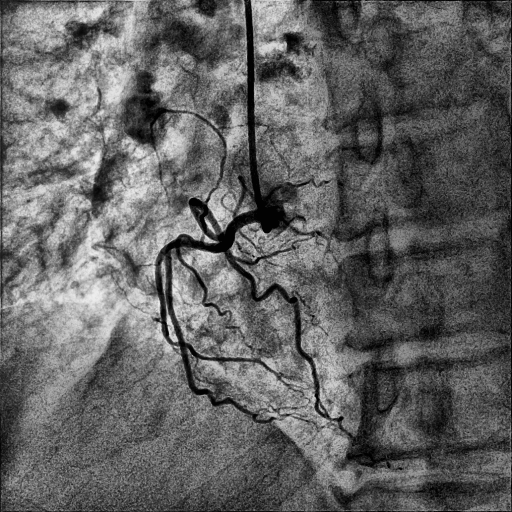rca: (163, 204, 278, 416)
